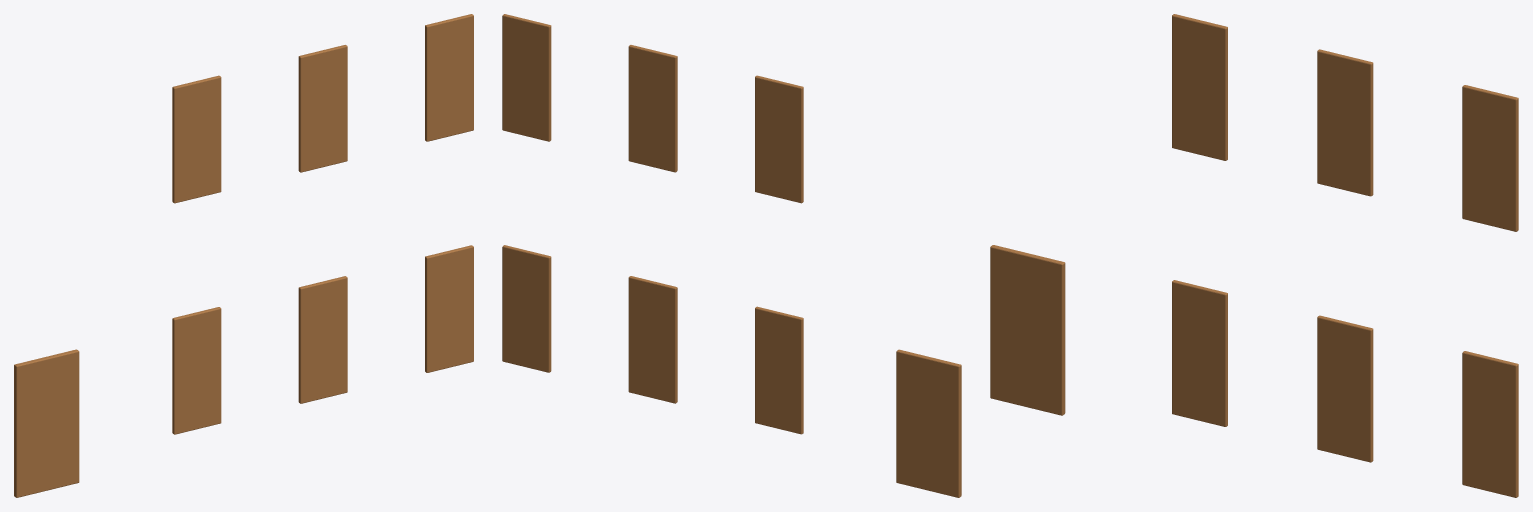
Rendered from desk_top.obj.
The picture shows the model from 3 angles, left to right: view 1: azimuth 30°, elevation 25°; view 2: azimuth 150°, elevation 25°; view 3: azimuth 330°, elevation 25°; orthographic projection. The views are drawn at different scales.
Visible parts, largest first — view 1: teacher_desk_top, desk_top_0_1, desk_top_0_0, desk_top_1_0, desk_top_1_1, desk_top_2_0, desk_top_2_1; view 2: teacher_desk_top, desk_top_1_0, desk_top_1_1, desk_top_2_0, desk_top_2_1, desk_top_0_0, desk_top_0_1; view 3: teacher_desk_top, desk_top_2_0, desk_top_1_1, desk_top_2_1, desk_top_1_0, desk_top_0_0, desk_top_0_1.
Part boxes in pixels (x1,y1,x2,y2): teacher_desk_top: [14, 349, 79, 497]; desk_top_0_1: [172, 75, 221, 203]; desk_top_0_0: [172, 307, 221, 434]; desk_top_1_0: [298, 276, 347, 403]; desk_top_1_1: [298, 45, 347, 172]; desk_top_2_0: [425, 245, 473, 372]; desk_top_2_1: [425, 14, 473, 141]; teacher_desk_top: [896, 349, 961, 497]; desk_top_1_0: [628, 276, 677, 403]; desk_top_1_1: [628, 45, 677, 172]; desk_top_2_0: [502, 245, 551, 372]; desk_top_2_1: [502, 14, 551, 141]; desk_top_0_0: [755, 306, 803, 434]; desk_top_0_1: [755, 75, 803, 203]; teacher_desk_top: [990, 245, 1065, 415]; desk_top_2_0: [1462, 351, 1518, 497]; desk_top_1_1: [1317, 49, 1373, 196]; desk_top_2_1: [1462, 85, 1518, 231]; desk_top_1_0: [1317, 315, 1373, 462]; desk_top_0_0: [1172, 280, 1227, 426]; desk_top_0_1: [1172, 14, 1227, 160].
Size of the model in its own units: 5.8 by 4.5 by 0.06.
